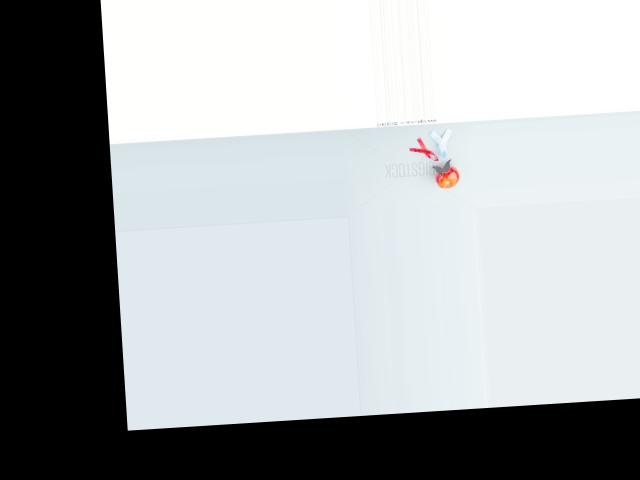tomato: (433, 164, 459, 188)
